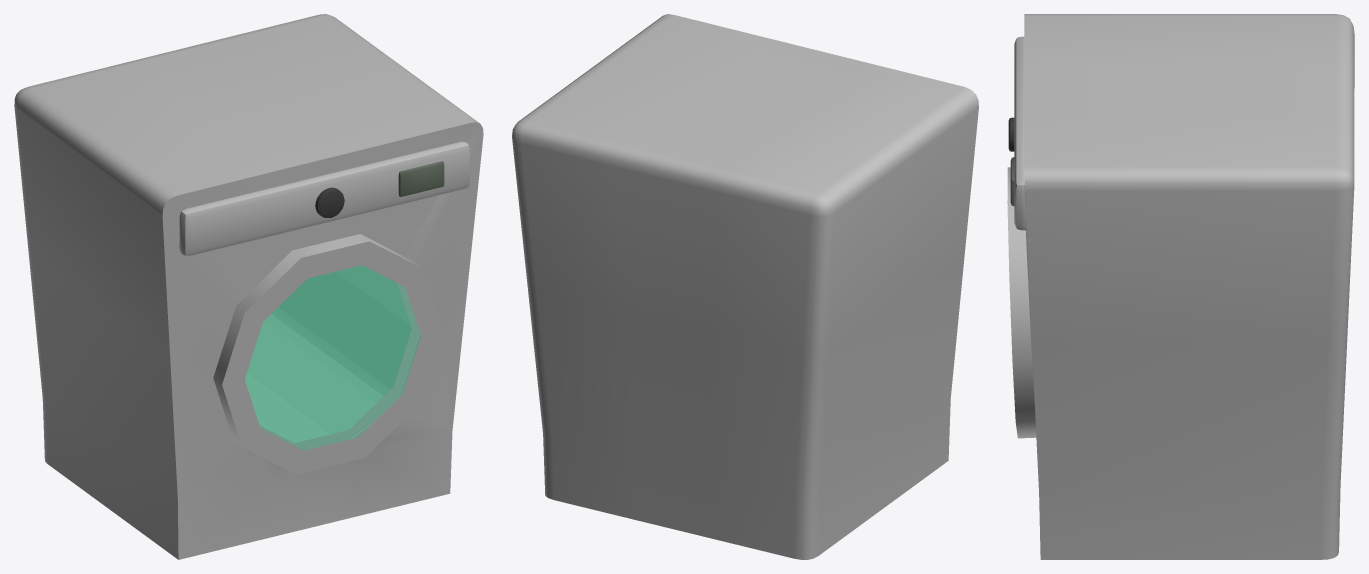
Rendered from New_Washing_Machine.fbx.
3 views of the same model, side by side, from view 1: azimuth 30°, elevation 25°; view 2: azimuth 150°, elevation 25°; view 3: azimuth 270°, elevation 25° (orthographic). The views are drawn at different scales.
Visible parts, largest first — view 1: Fridge Top Door, Cylinder003, Box001, Box002, Cylinder002; view 2: Fridge Top Door; view 3: Fridge Top Door, Cylinder003, Box001.
Boxes of the visible parts, box(x1,y1,x2,y2) form: Fridge Top Door: box(14, 14, 483, 559); Cylinder003: box(213, 234, 443, 474); Box001: box(179, 141, 469, 255); Box002: box(398, 161, 444, 196); Cylinder002: box(315, 187, 344, 217); Fridge Top Door: box(512, 14, 978, 559); Fridge Top Door: box(1024, 14, 1354, 559); Cylinder003: box(1007, 167, 1036, 438); Box001: box(1014, 36, 1026, 230).
Bounding box in the file's own units: 53.74 × 59.71 × 47.07.
